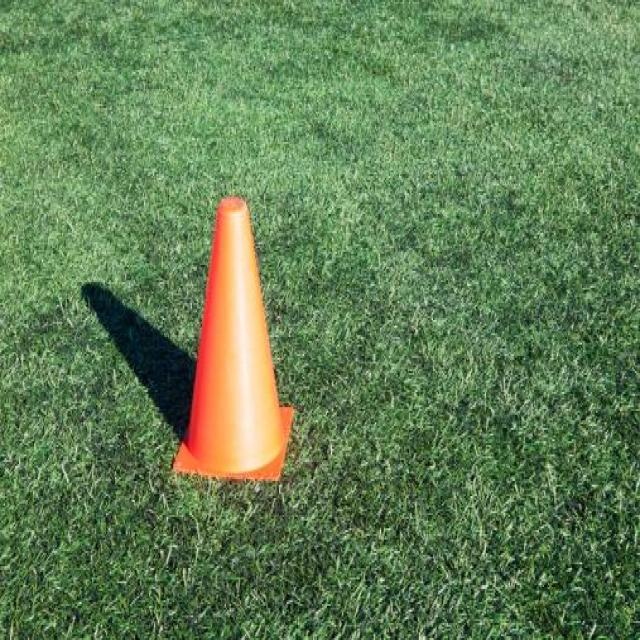Cone: (170, 193, 296, 489)
